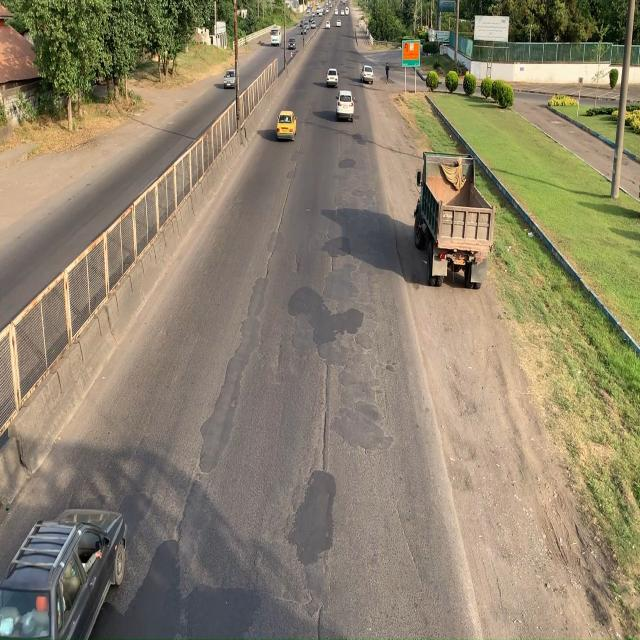Truck: (415, 148, 494, 286)
cars: (0, 511, 128, 640), (276, 108, 296, 140)
